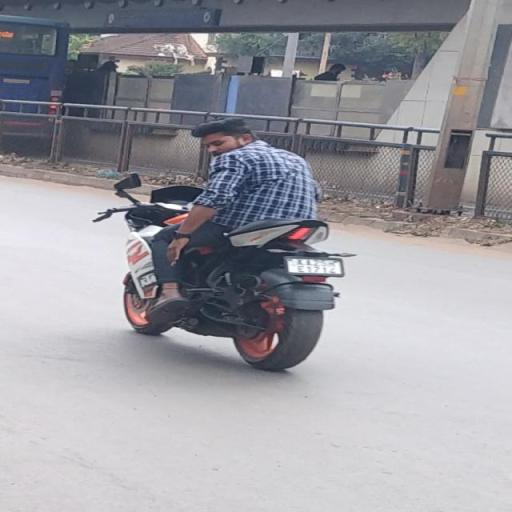bike: (95, 118, 370, 372)
numberplate: (286, 259, 344, 276)
withouthelmet: (190, 112, 253, 158)
